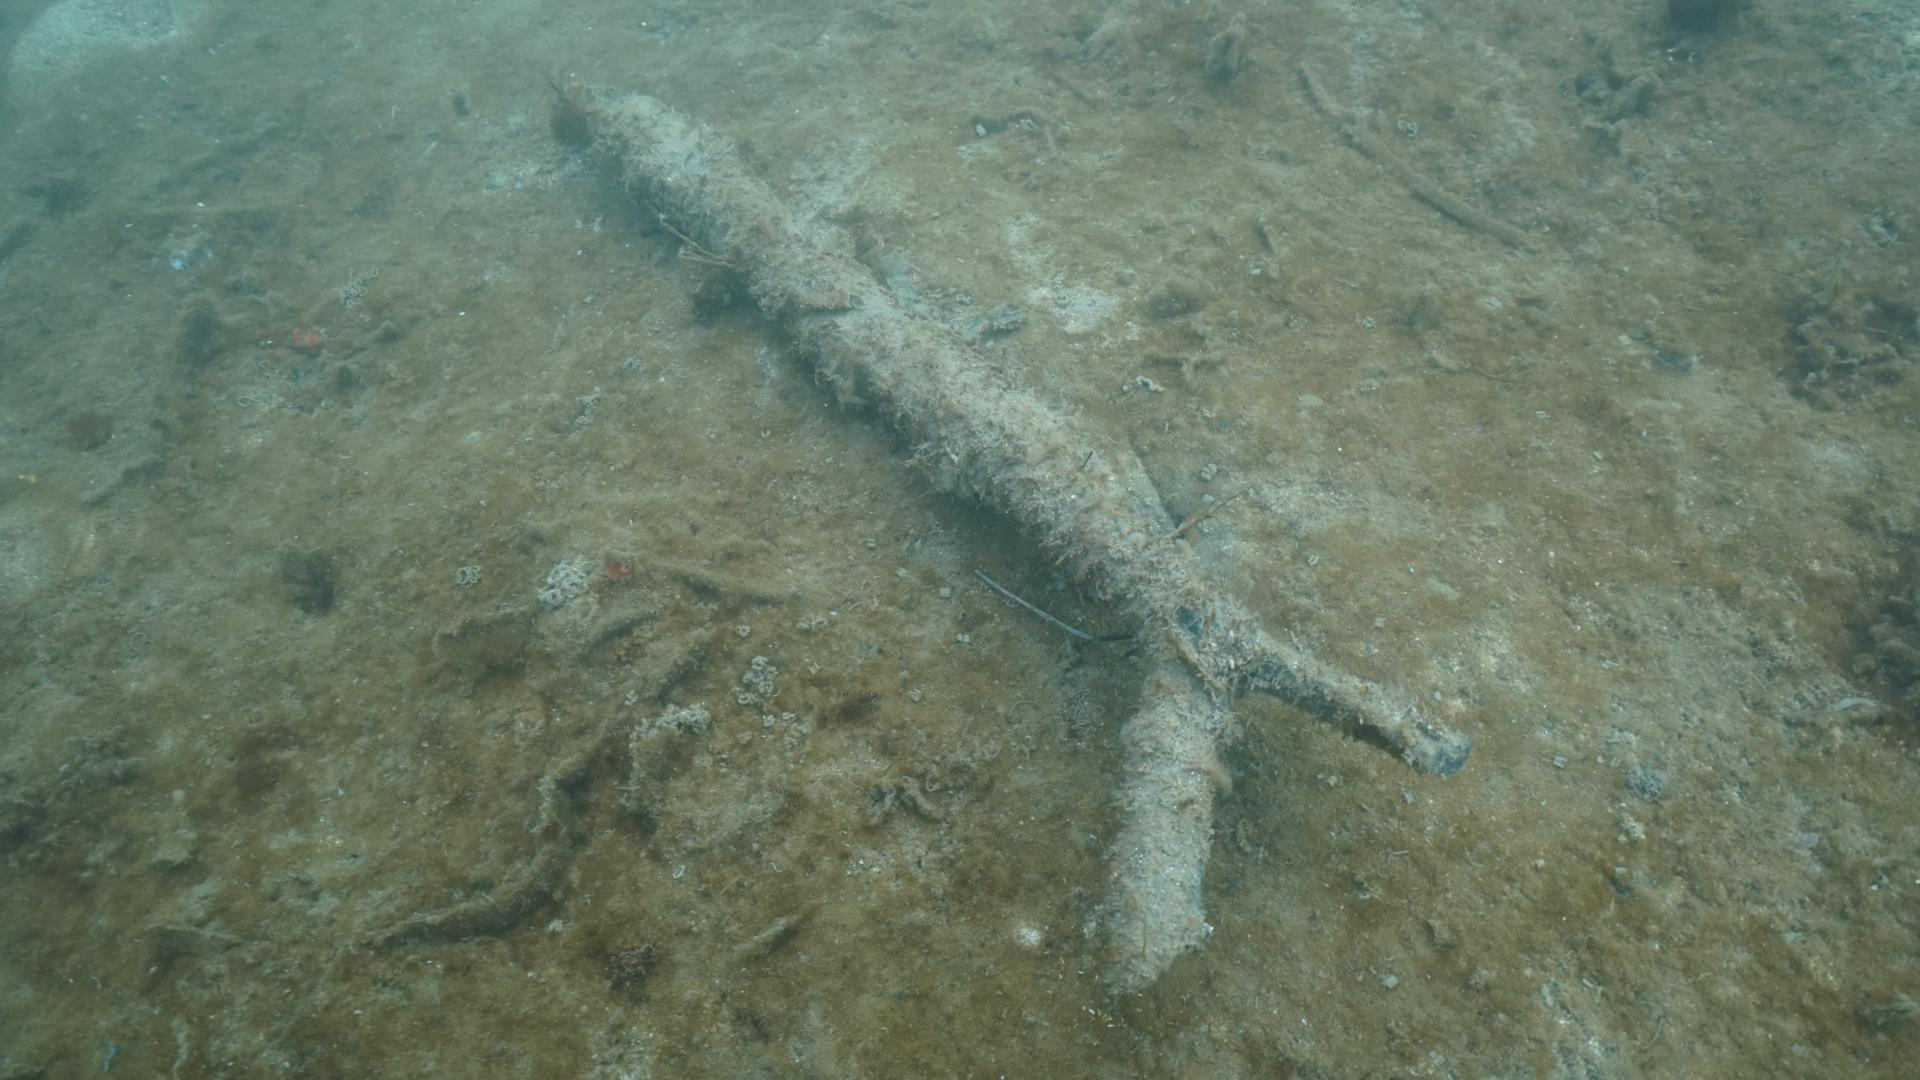wood: (549, 87, 1462, 994)
